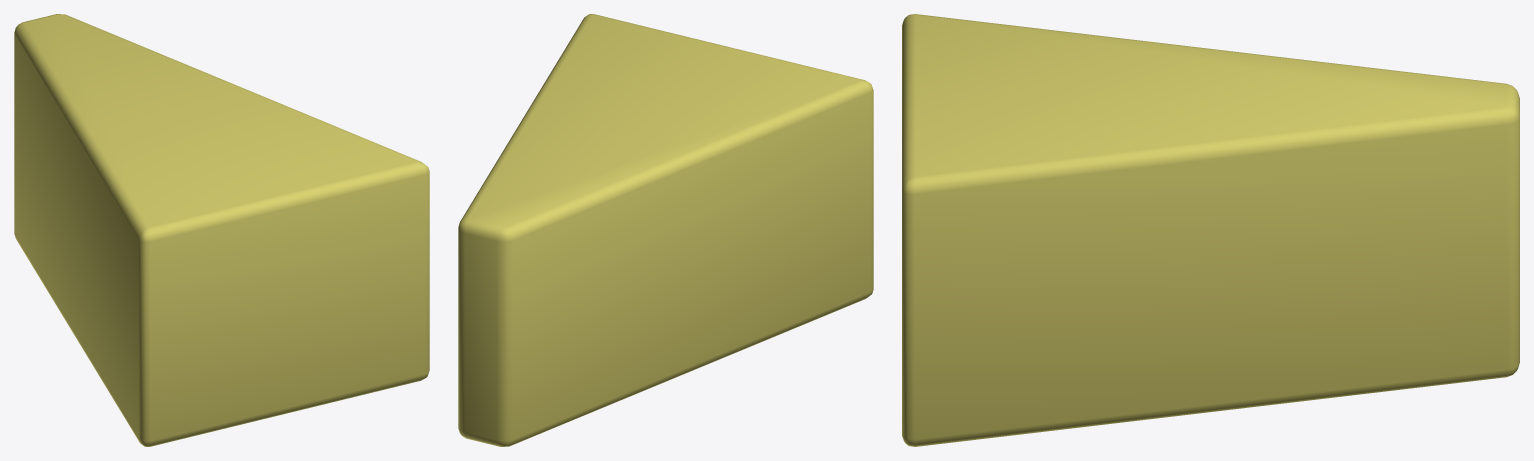
File: SlicedCheese01.fbx
3 views of the same model, side by side, from view 1: azimuth 30°, elevation 25°; view 2: azimuth 150°, elevation 25°; view 3: azimuth 270°, elevation 25° (orthographic). The views are drawn at different scales.
Parts seen in each view (by area): view 1: SlicedCheese01; view 2: SlicedCheese01; view 3: SlicedCheese01.
Boxes of the visible parts, x1=… form: SlicedCheese01: x1=14, y1=14, x2=429, y2=446; SlicedCheese01: x1=458, y1=14, x2=873, y2=446; SlicedCheese01: x1=902, y1=14, x2=1519, y2=446.
Bounding box in the file's own units: 276 × 200 × 416.
